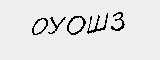З: (110, 10, 126, 32)
О: (66, 13, 88, 37), (31, 17, 49, 36)
У: (48, 15, 65, 36)
Ш: (87, 11, 108, 32)
